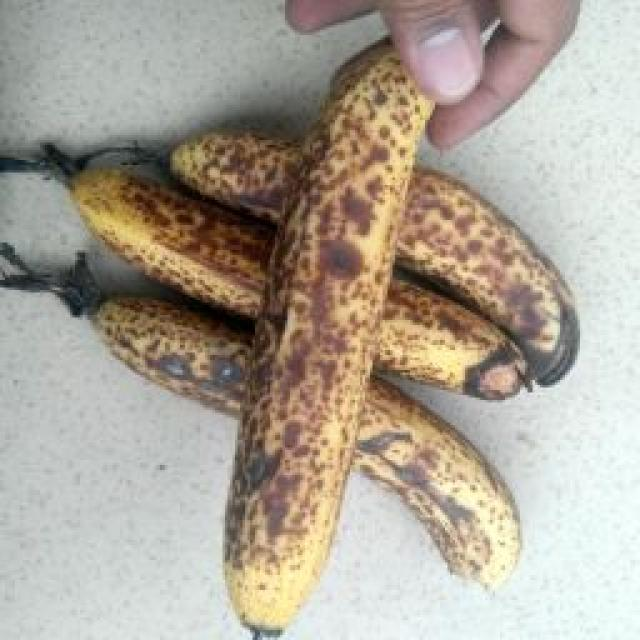banana: (17, 96, 504, 564)
